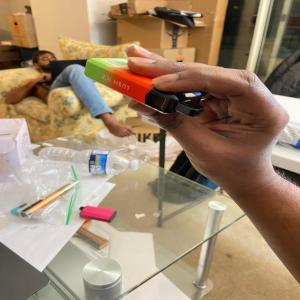Swift-E-Ciggirate: (82, 54, 210, 118)
